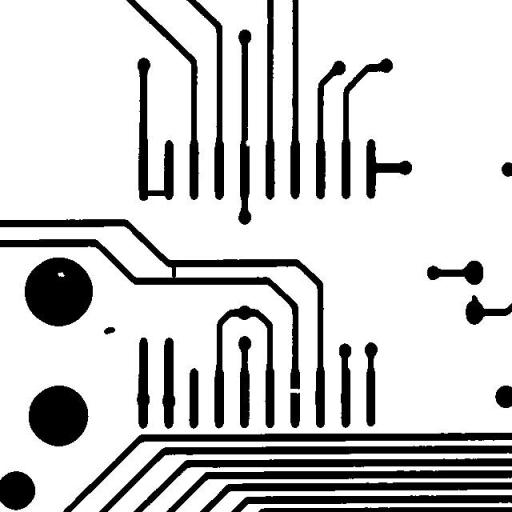copper: (96, 319, 122, 342)
mousebite: (238, 132, 256, 154)
open: (280, 381, 310, 401)
pin-hole: (50, 264, 72, 284)
short: (133, 182, 176, 204), (163, 257, 183, 285)
spur: (464, 287, 486, 312)
